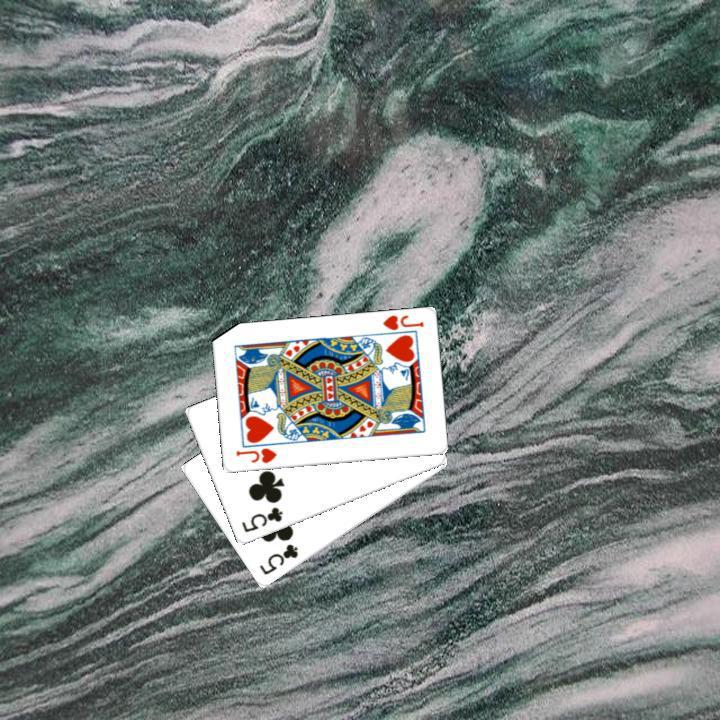5: (255, 540, 300, 578), (237, 503, 284, 535)
J: (231, 444, 278, 466), (378, 311, 425, 332)
